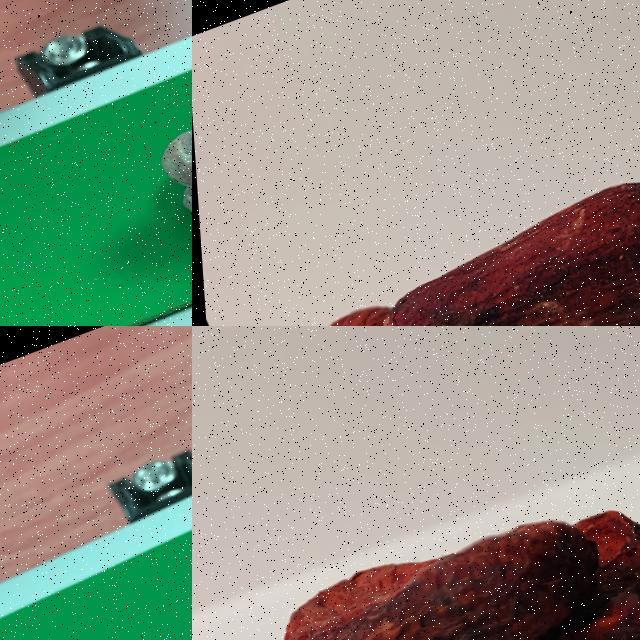Agglomerated_cocoabeans: (192, 386, 639, 639), (206, 117, 639, 325), (19, 90, 191, 325)
